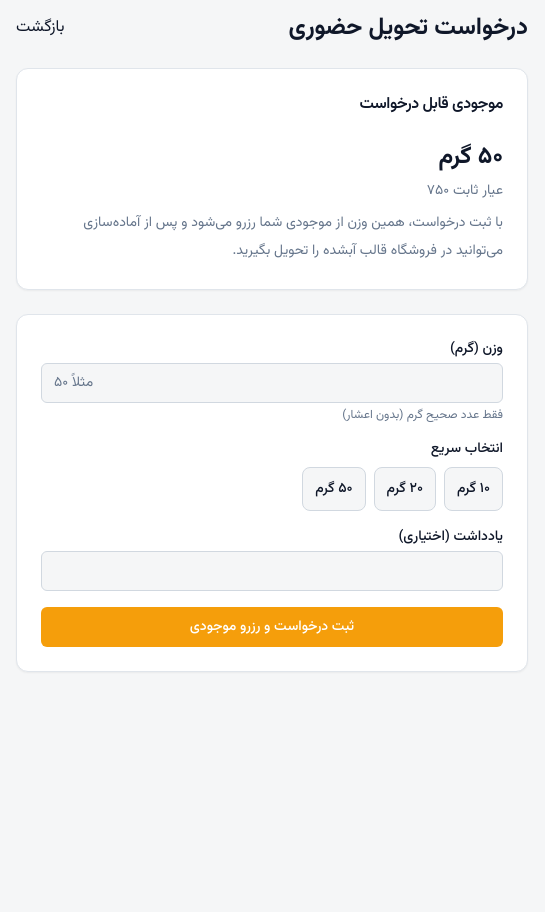
Test: NewPickupPage fee preview › blocks submission and shows the shortfall when the wallet cannot cover the fee
This screenshot has width=545, height=912.
Type "10" into the field labelled "وزن (گرم)" at (272, 383), box [41, 363, 503, 403]
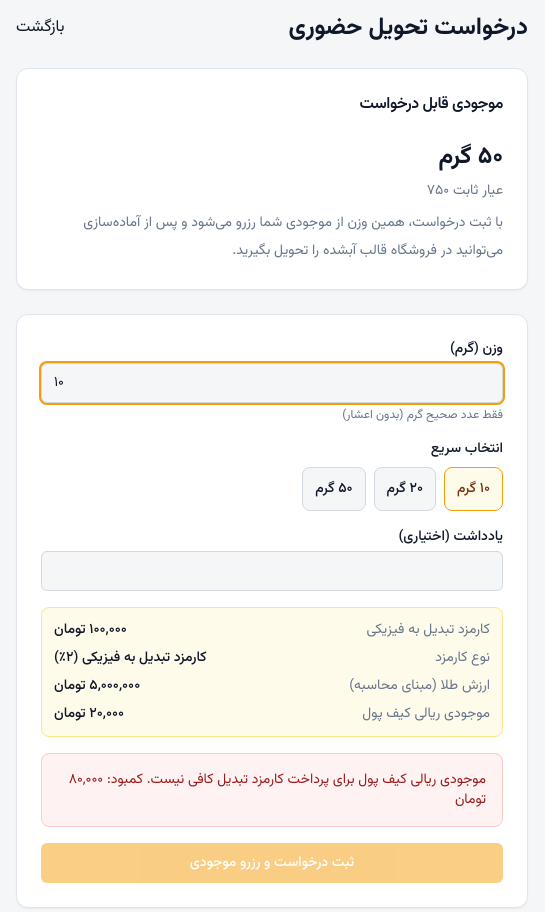
Result: the text "موجودی ریالی کیف پول برای پرداخت کارمزد تبدیل کافی نیست" is shown at [107, 769, 486, 791]
Result: the button "ثبت درخواست و رزرو موجودی" is disabled at [41, 843, 503, 883]
